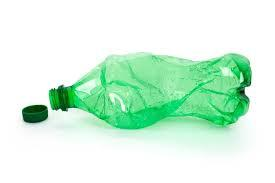plastic: (51, 55, 254, 130)
